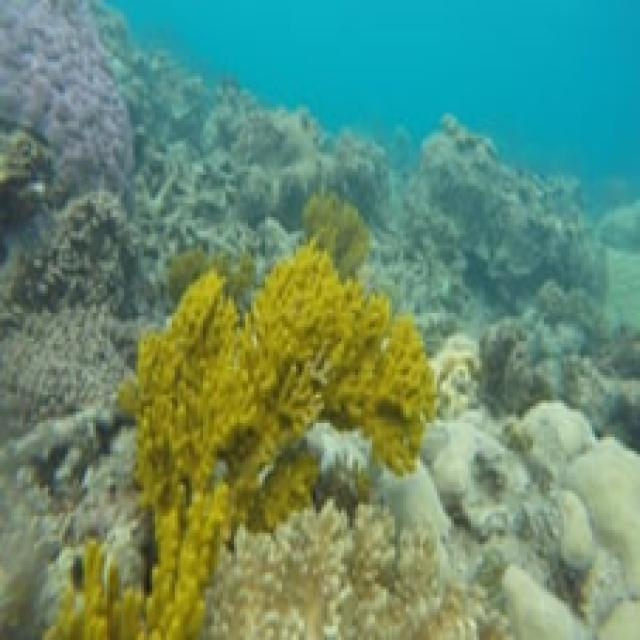Bleached: (409, 409, 639, 637), (218, 510, 453, 638), (1, 423, 134, 573), (34, 201, 132, 307)
Healthy: (245, 260, 422, 472), (122, 299, 254, 476), (1, 1, 131, 176), (147, 464, 363, 547), (52, 548, 214, 640), (307, 197, 371, 274), (164, 254, 253, 294)
